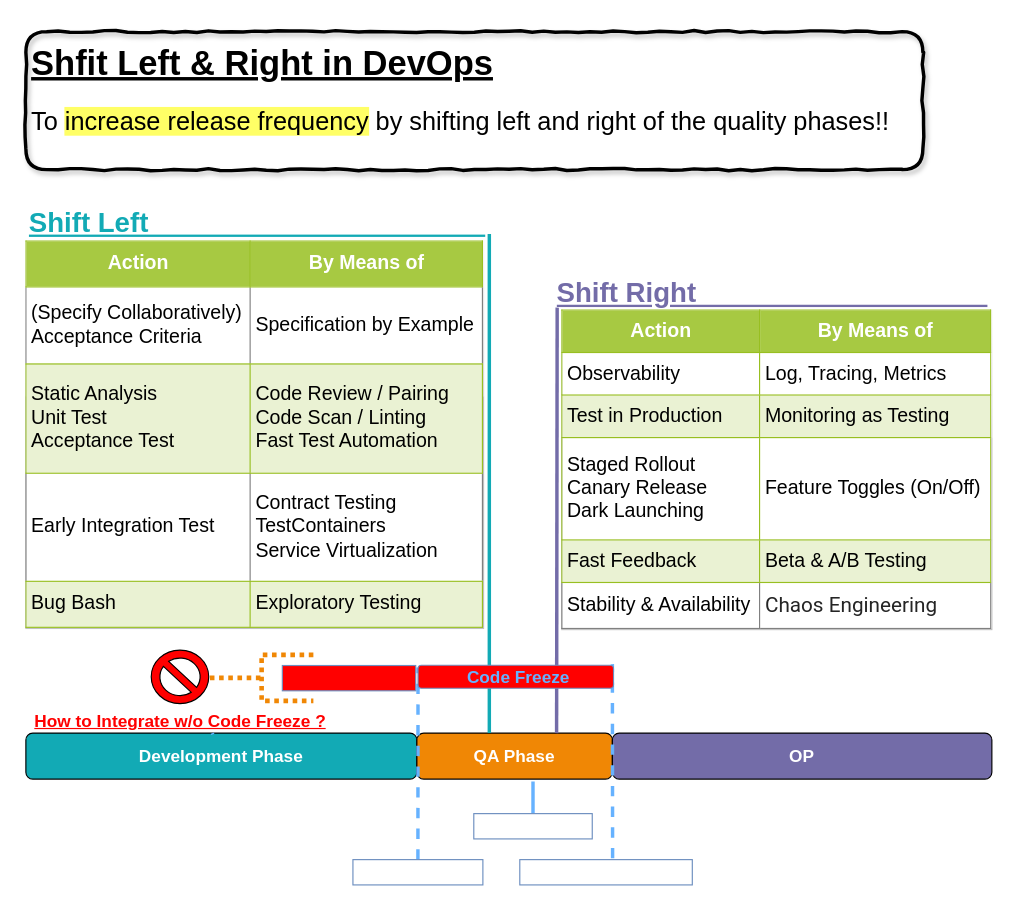
This 1035x905 diagram has some shape labels left out. Each missing label, with the centre of its shape:
"Alpha Release" goes at (417,871).
"Beta Release" goes at (532,825).
"Feature Freeze" goes at (348,677).
"Production Release" goes at (605,871).
